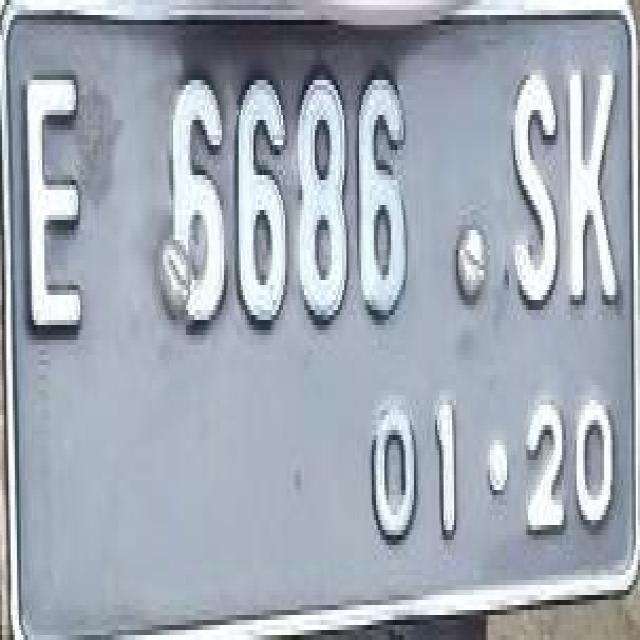6: (167, 72, 232, 348), (231, 70, 295, 345), (354, 65, 411, 330)
8: (294, 68, 354, 322)
E: (18, 60, 92, 345)
K: (564, 62, 623, 328)
S: (505, 62, 564, 308)
